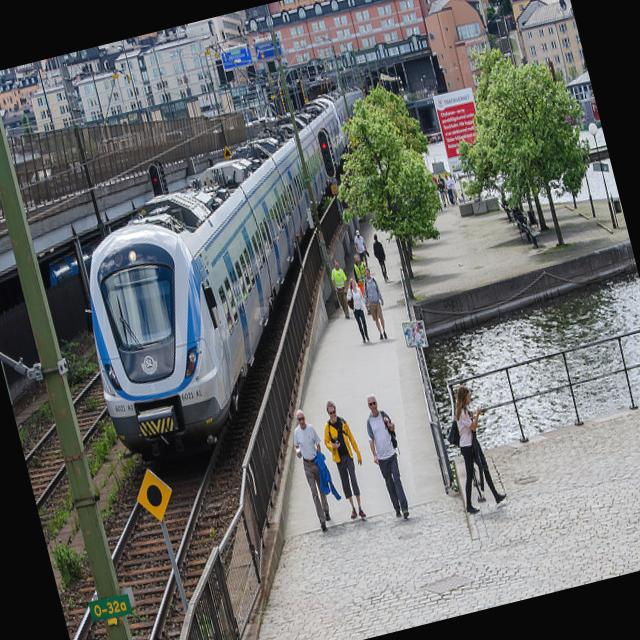Vehicle: (45, 159, 89, 198), (28, 166, 60, 206), (162, 128, 185, 146)
